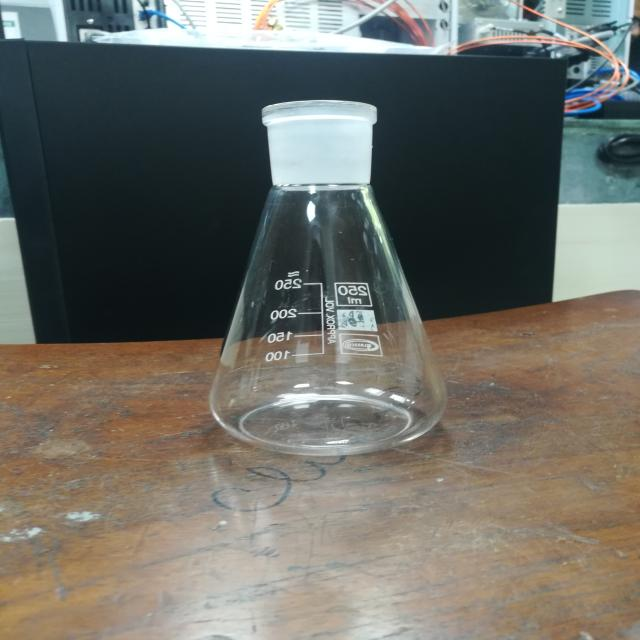Conical_Flask: (181, 50, 487, 497)
